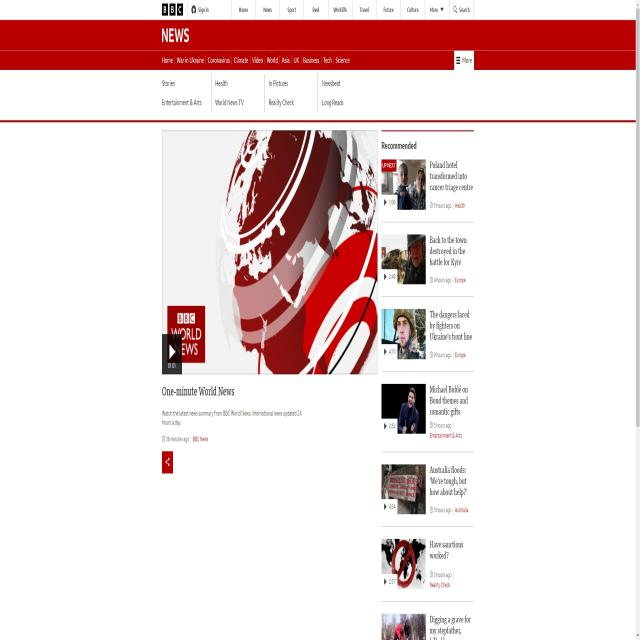content: (161, 387, 306, 449)
menu-bar: (233, 4, 474, 16)
tab-bar: (160, 54, 353, 68)
